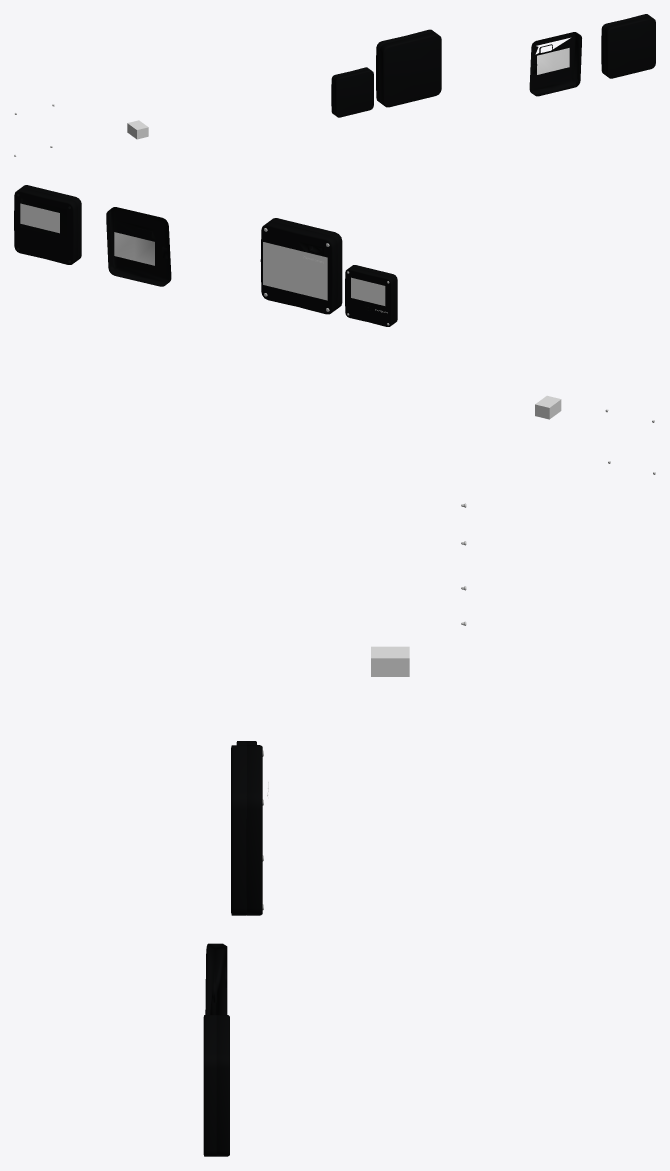
Rendered from pigpulse-device.glb.
3 views of the same model, one above another, from view 1: azimuth 30°, elevation 25°; view 2: azimuth 150°, elevation 25°; view 3: azimuth 270°, elevation 25° (orthographic). The views are drawn at different scales.
Parts seen in each view (by area): view 1: Cube.008, Cube.001, Cube.005, Cube.002, Cube.004; view 2: Cube.005, Cube.008, Cube.001, logo.002, Cube.002, logo.001, logo, Cube.004; view 3: Cube.008, Cube.001, Cube.005, Cube.004.
Boxes of the visible parts, x1=… form: Cube.008: x1=376, y1=29, x2=441, y2=107; Cube.001: x1=601, y1=14, x2=655, y2=78; Cube.005: x1=529, y1=32, x2=581, y2=96; Cube.002: x1=331, y1=67, x2=373, y2=117; Cube.004: x1=127, y1=120, x2=148, y2=139; Cube.005: x1=106, y1=207, x2=171, y2=286; Cube.008: x1=260, y1=218, x2=342, y2=314; Cube.001: x1=14, y1=185, x2=81, y2=264; logo.002: x1=263, y1=242, x2=327, y2=300; Cube.002: x1=345, y1=265, x2=397, y2=326; logo.001: x1=20, y1=203, x2=59, y2=233; logo: x1=351, y1=277, x2=385, y2=305; Cube.004: x1=535, y1=395, x2=561, y2=419; Cube.008: x1=231, y1=745, x2=262, y2=915; Cube.001: x1=203, y1=1015, x2=229, y2=1156; Cube.005: x1=205, y1=943, x2=227, y2=1014; Cube.004: x1=371, y1=646, x2=409, y2=676.
Bounding box in the file's own units: 13.4 × 1.79 × 2.64.
7 materials, 2 textured.
